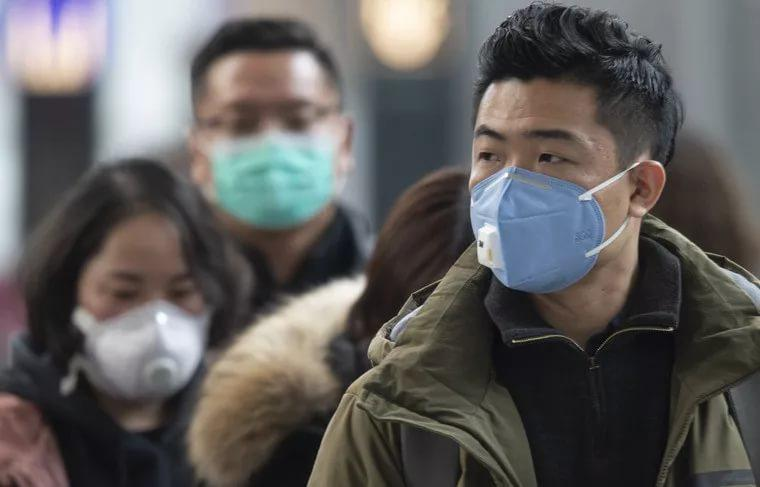mask: (468, 77, 626, 292), (68, 220, 214, 406), (192, 41, 338, 227)
